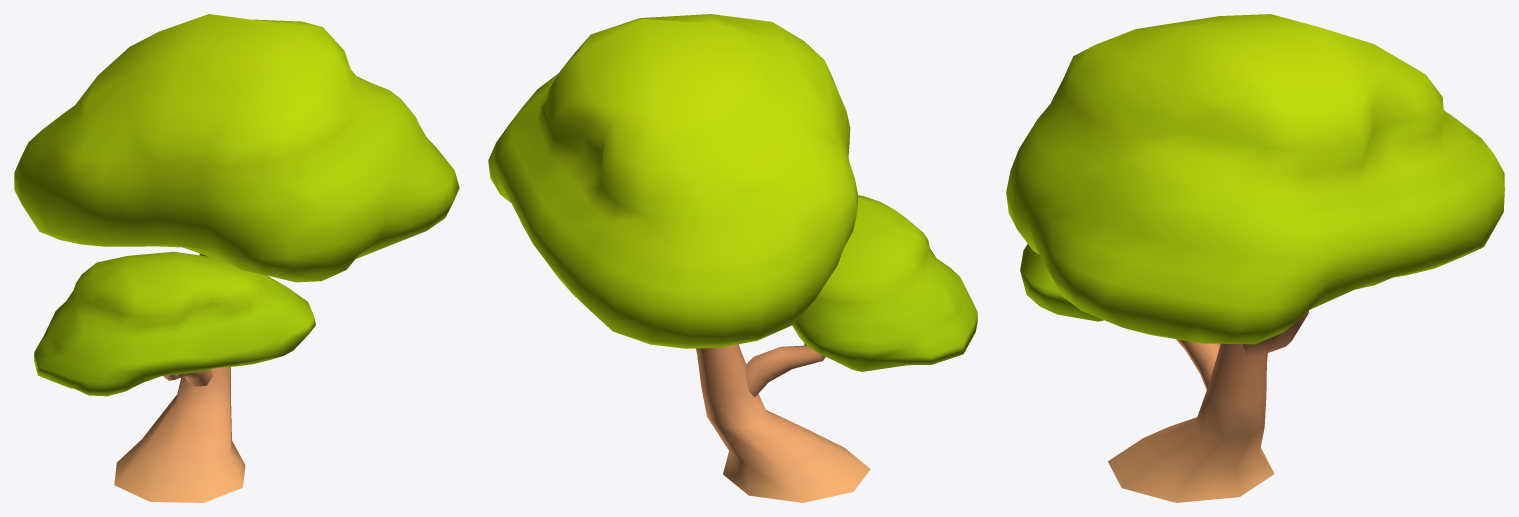
The model's file is Tree13.FBX.
The picture shows the model from 3 angles, left to right: view 1: azimuth 30°, elevation 25°; view 2: azimuth 150°, elevation 25°; view 3: azimuth 270°, elevation 25°; orthographic projection. The views are drawn at different scales.
Parts seen in each view (by area): view 1: Tree13; view 2: Tree13; view 3: Tree13.
Boxes of the visible parts, x1=… form: Tree13: x1=14, y1=14, x2=459, y2=502; Tree13: x1=488, y1=14, x2=977, y2=502; Tree13: x1=1006, y1=14, x2=1504, y2=502.
Size of the model in its own units: 705 by 664 by 606.
